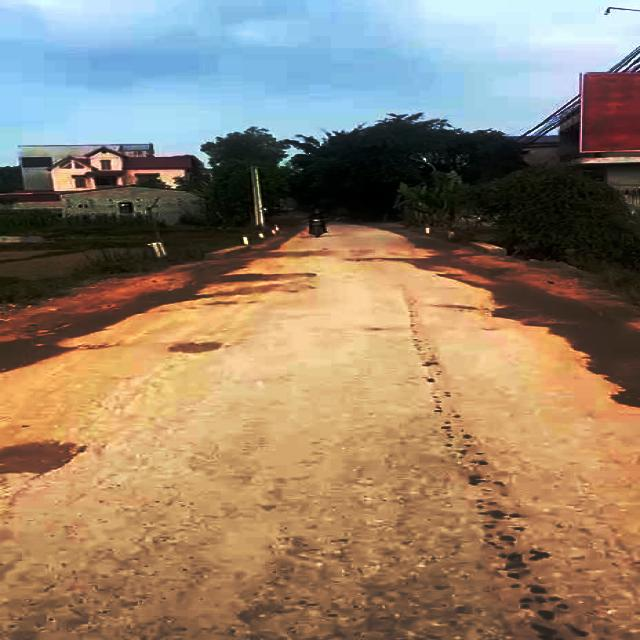pothole: (0, 430, 87, 480), (171, 340, 230, 354)
